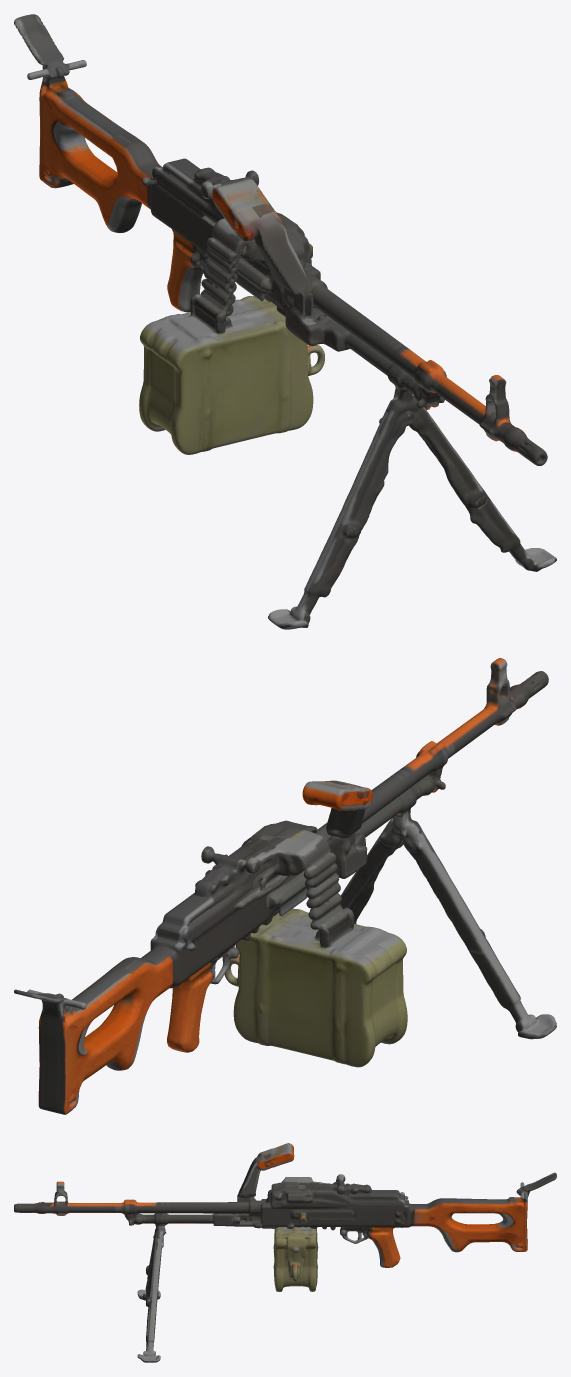
Rendered from tank_tufek.glb.
The picture shows the model from 3 angles, top to bottom: view 1: azimuth 30°, elevation 25°; view 2: azimuth 150°, elevation 25°; view 3: azimuth 270°, elevation 25°; orthographic projection. The views are drawn at different scales.
Parts seen in each view (by area): view 1: tripo_node_8afe7004-fc45-4175-9716-c3d1ec89660d; view 2: tripo_node_8afe7004-fc45-4175-9716-c3d1ec89660d; view 3: tripo_node_8afe7004-fc45-4175-9716-c3d1ec89660d.
Part boxes in pixels (left/top/right/bottom): tripo_node_8afe7004-fc45-4175-9716-c3d1ec89660d: left=14, top=14, right=556, bottom=629; tripo_node_8afe7004-fc45-4175-9716-c3d1ec89660d: left=14, top=658, right=556, bottom=1114; tripo_node_8afe7004-fc45-4175-9716-c3d1ec89660d: left=14, top=1143, right=556, bottom=1362.
Bounding box in the file's own units: 0.3097 × 0.3461 × 1.
Materials: 1 (1 with a texture image).
